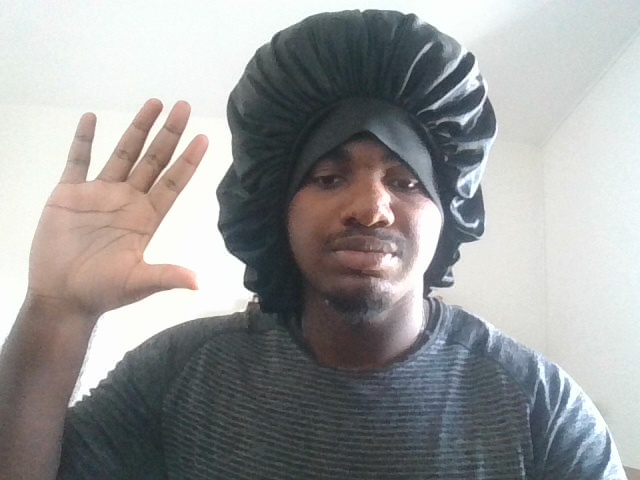Hello: (21, 80, 208, 314)
